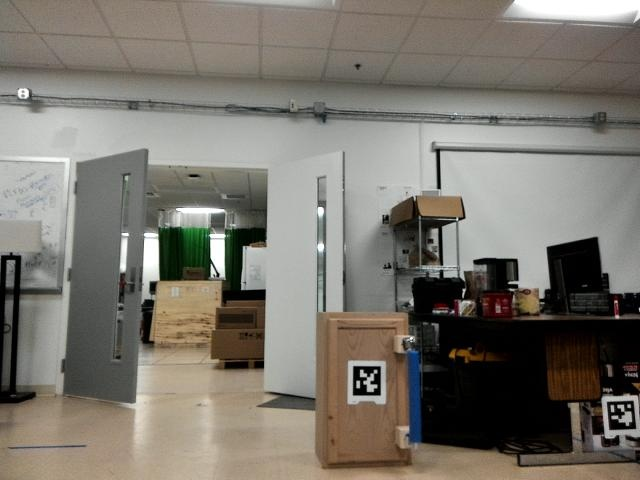noodle_handle: (404, 341, 423, 447)
